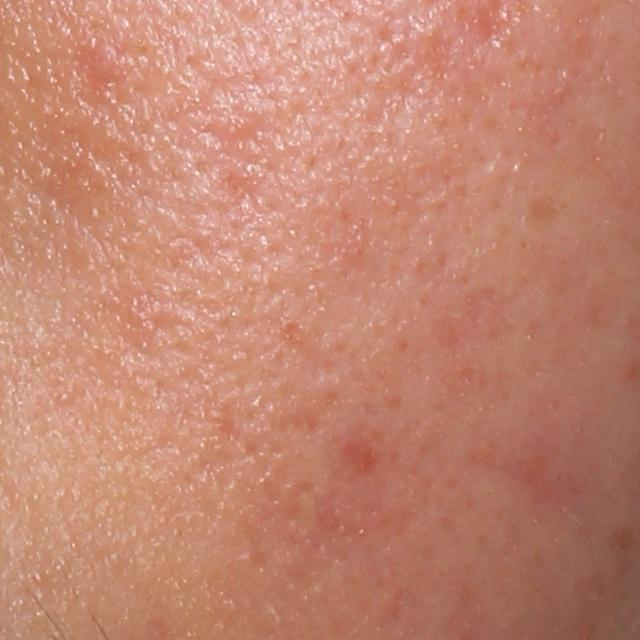atrophic_scar: (473, 0, 509, 48)
